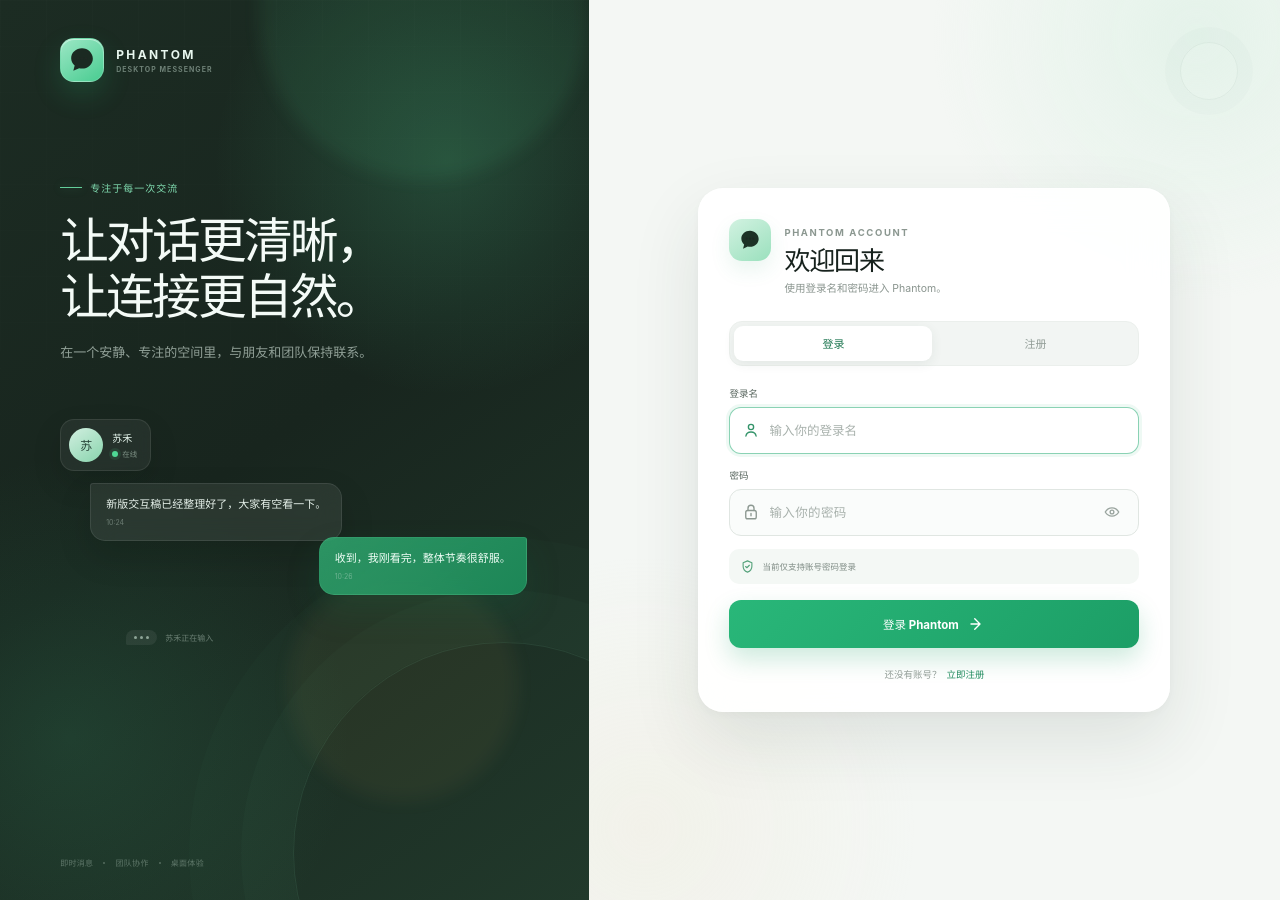
Scenario: AuthScreen › 用户名或密码错误时显示表单提示并保留已输入内容
The width and height of the screenshot is (1280, 900).
Type "alice_1" into the field labelled "登录名" at (948, 430), box [769,408,1126,453]
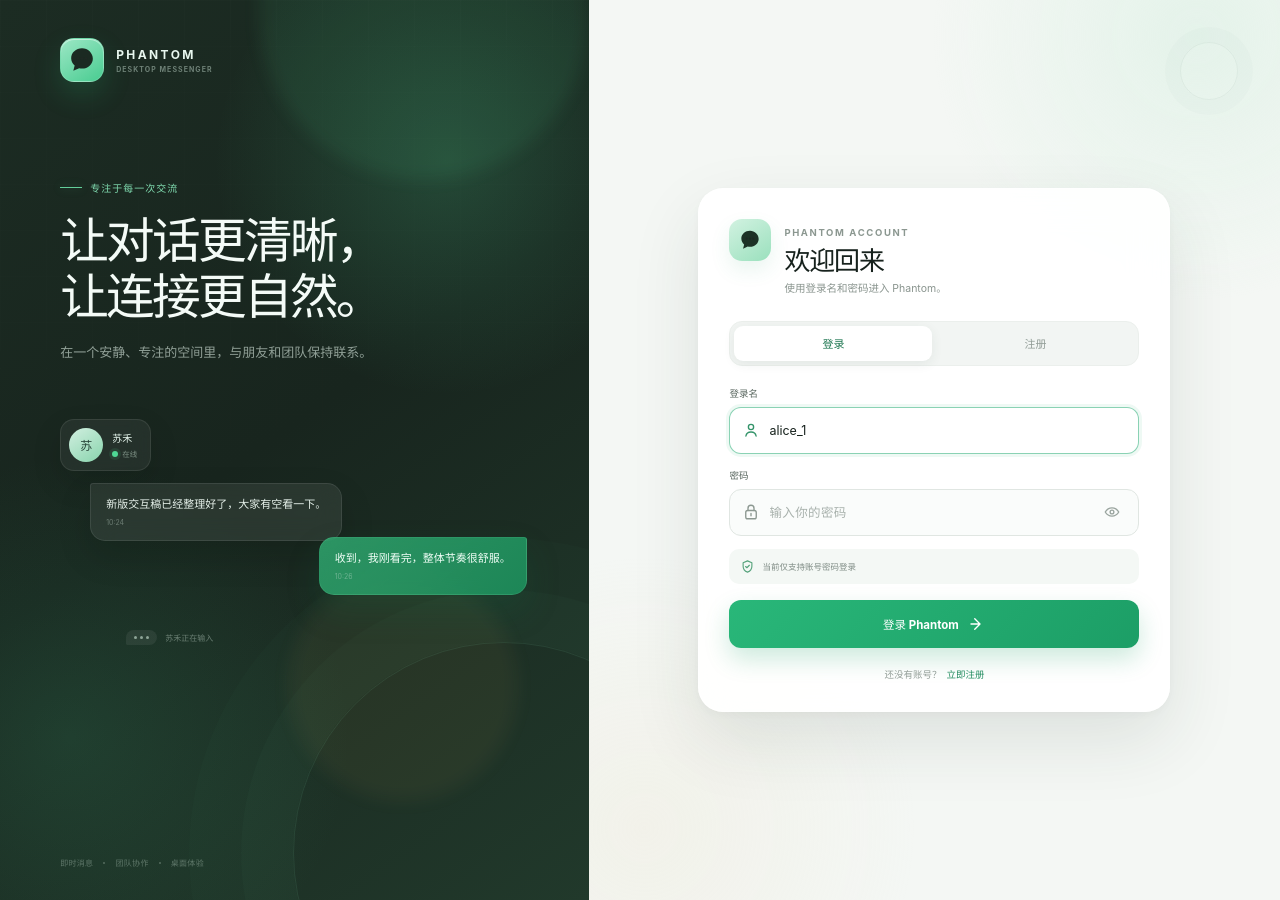
Type "wrong-password" into the password field labelled "密码" at (929, 512), box [769,490,1089,535]
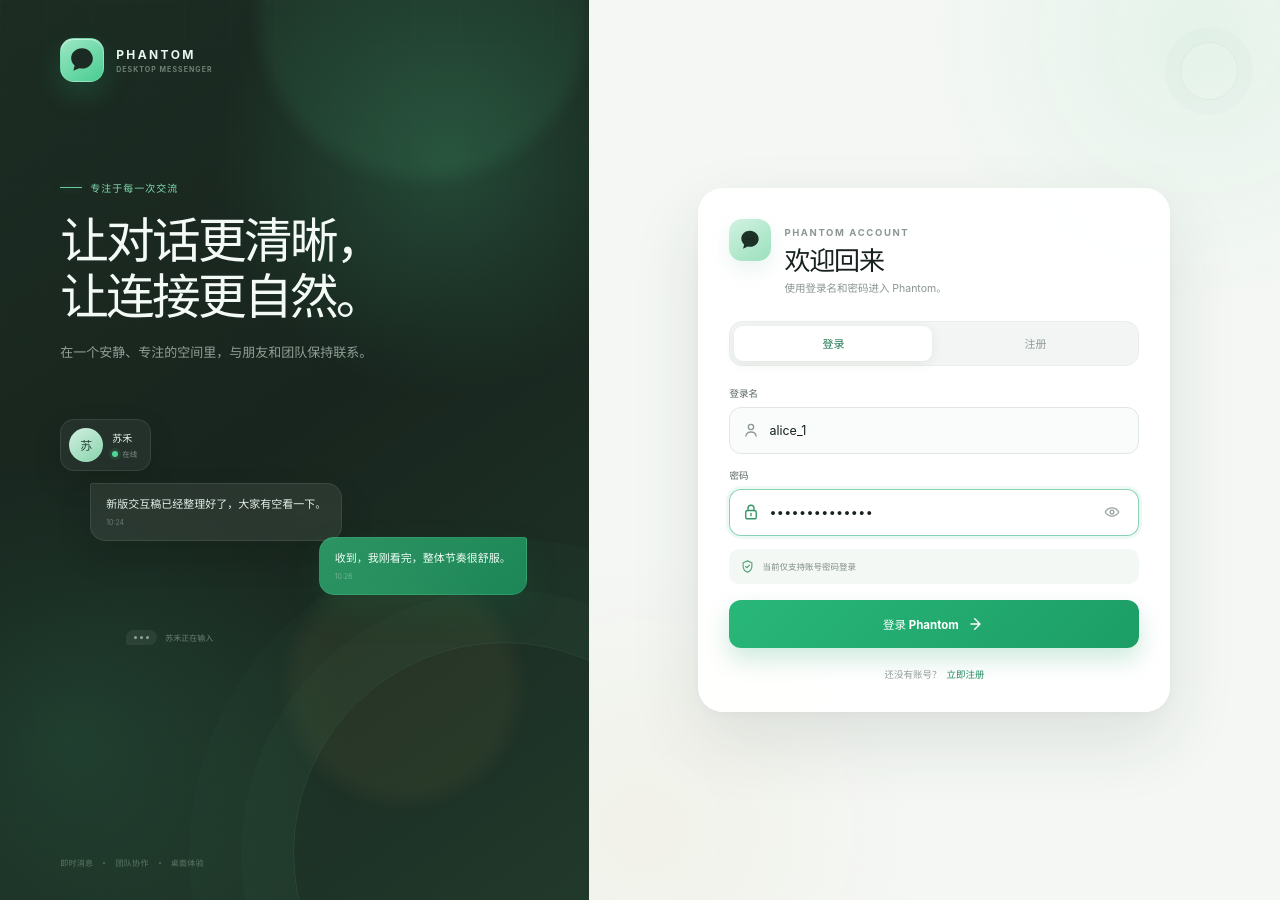
Click the button with test id "auth-login-submit" at (934, 624), box [729,600,1139,648]
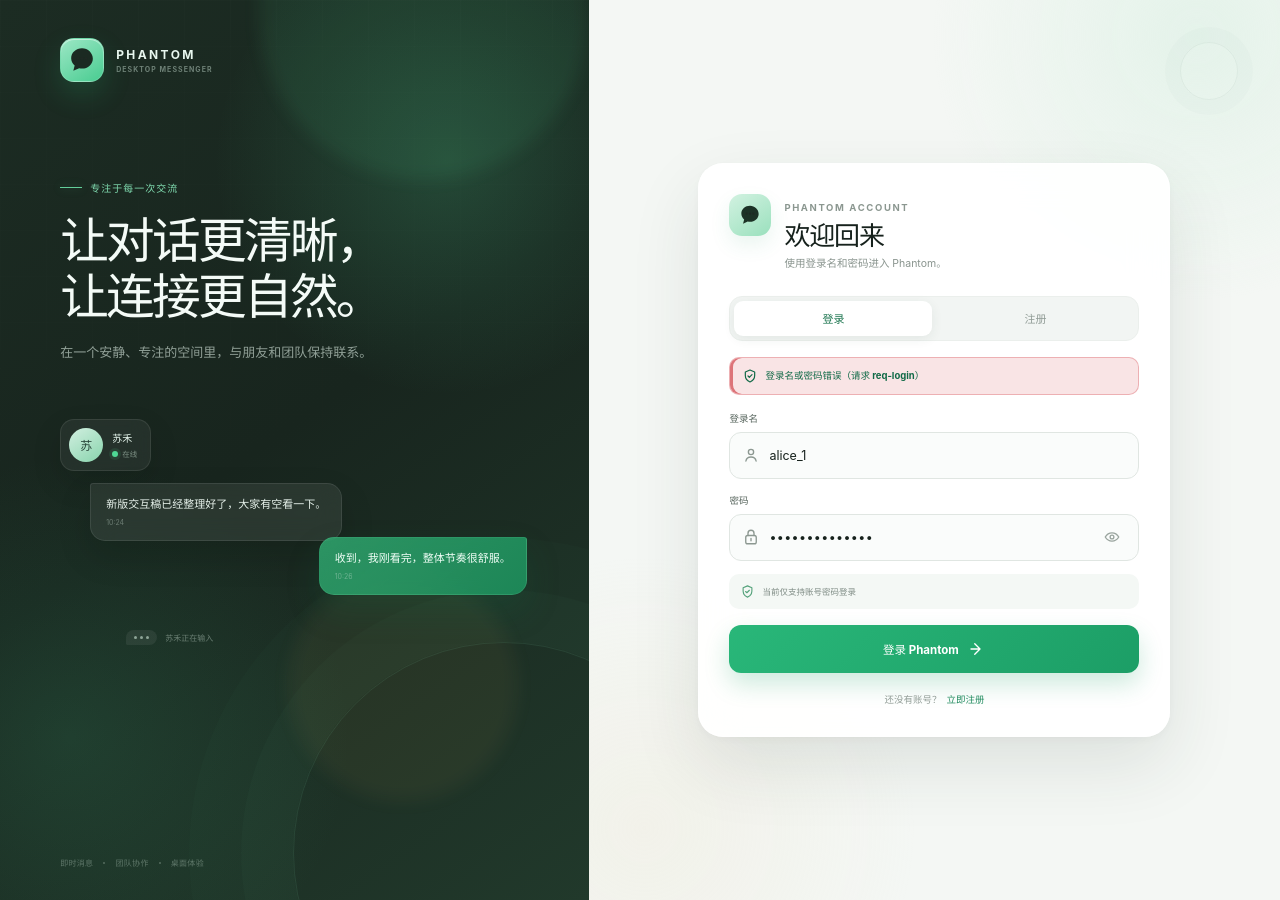
Expected: the button with test id "auth-login-submit" is enabled, [729,625,1139,673]
Expected: the message with test id "auth-form-error" reads "登录名或密码错误（请求 req-login）", [765,370,924,381]
